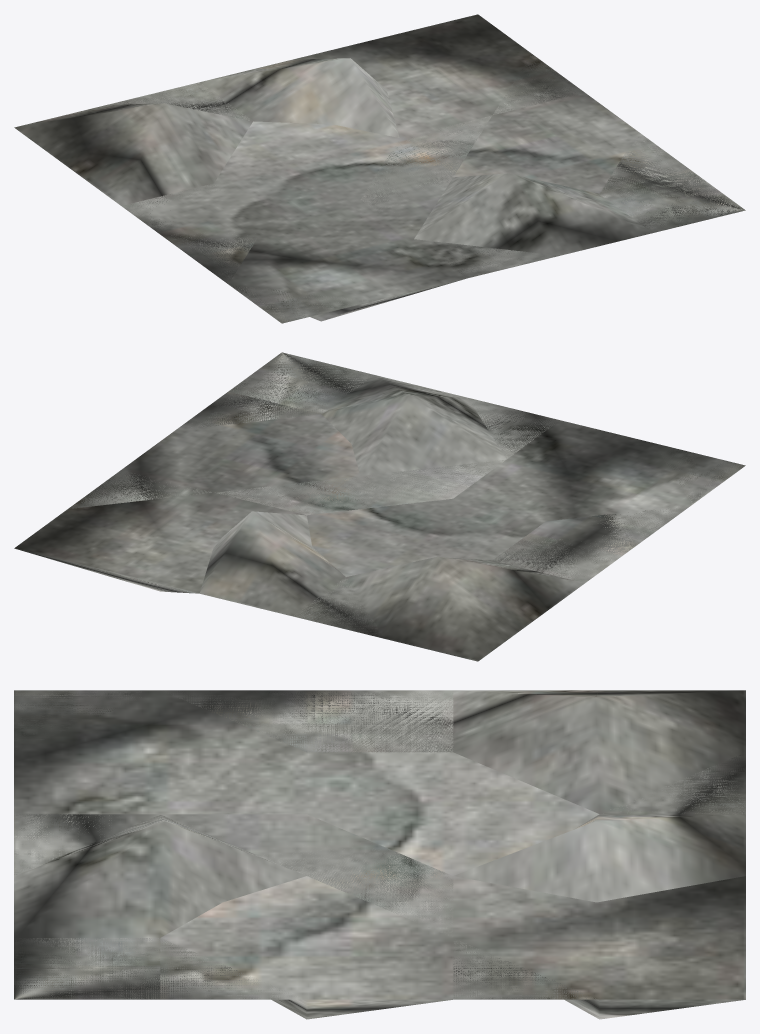
File: floor_debris_1.obj
The picture shows the model from 3 angles, top to bottom: view 1: azimuth 30°, elevation 25°; view 2: azimuth 150°, elevation 25°; view 3: azimuth 270°, elevation 25°; orthographic projection. The views are drawn at different scales.
Parts seen in each view (by area): view 1: grid1; view 2: grid1; view 3: grid1.
Part boxes in pixels (x1,y1,x2,y2): grid1: (14,14,745,323); grid1: (14,352,745,661); grid1: (14,690,745,1019).
Bounding box in the file's own units: 1 × 0.2079 × 1.
1 material, 1 textured.
